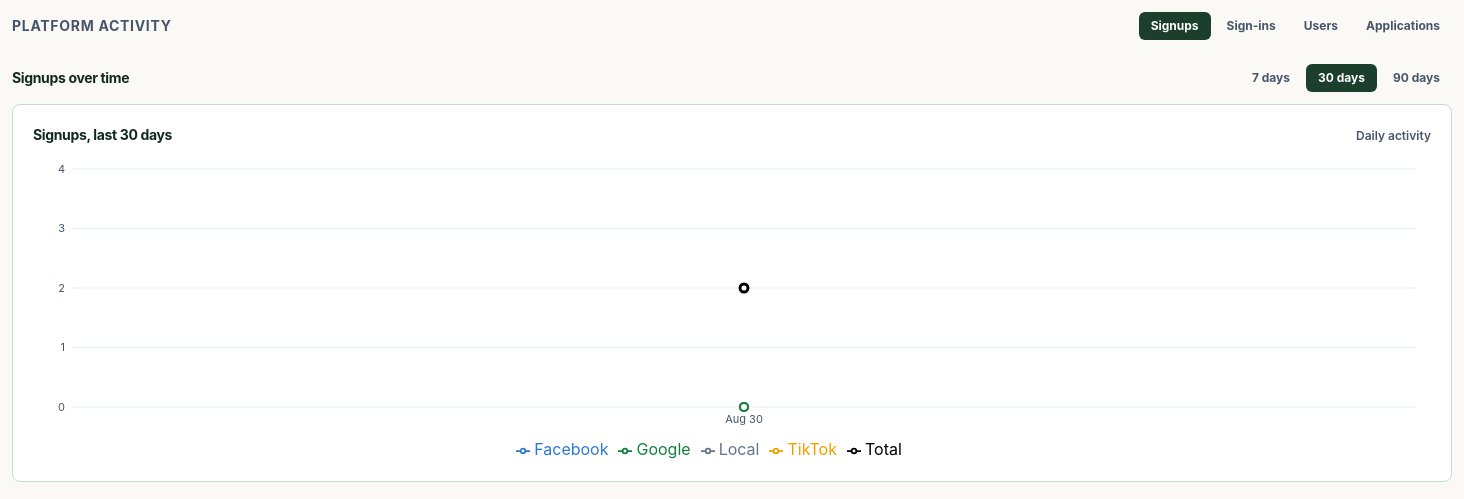
Test: the statistics tab › opens on a month and moves the line, not the splits
The width and height of the screenshot is (1464, 499).
Click the button "7 days".
click(1271, 78)  # box [1240,64,1302,92]
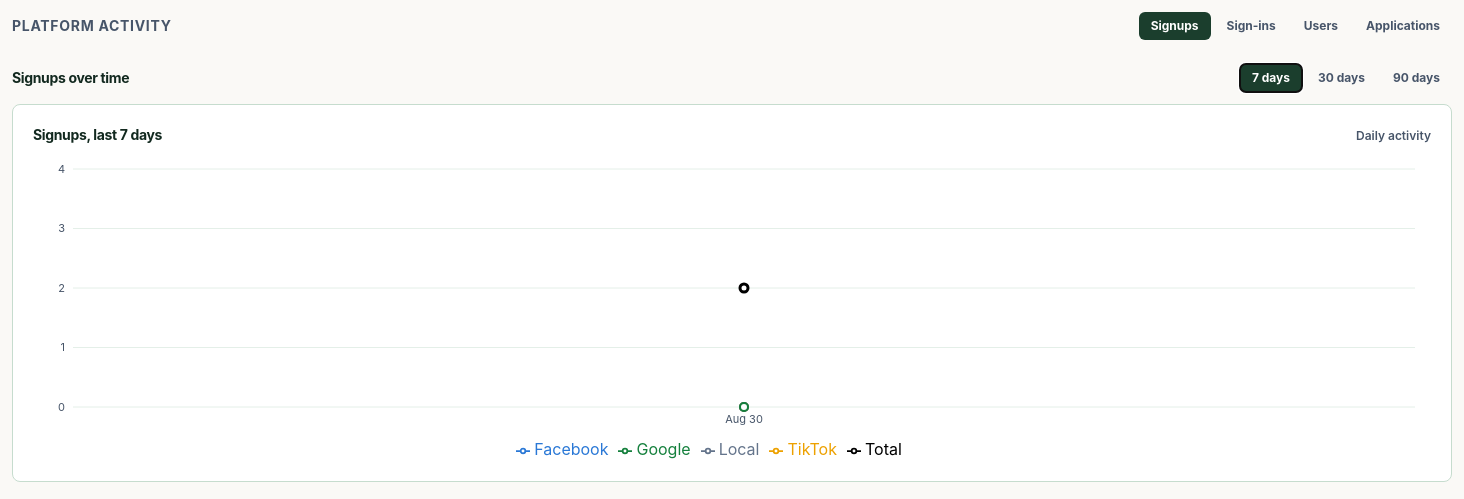
expect the heading "Signups, last 7 days" is shown: met, box [33,125,162,145]
